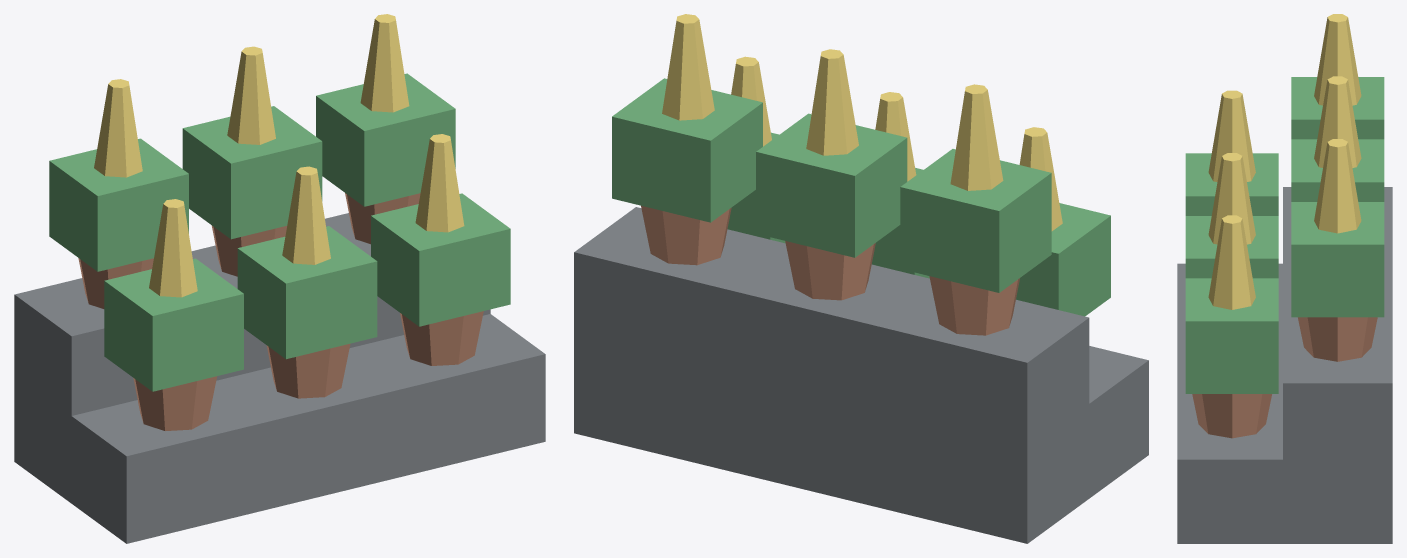
Rendered from flora_44_paphiopedilum_dalatense_chau_lan_hai_da_lat_va_dia_lan_kiem.glb.
3 renders of one model, left to right at view 1: azimuth 30°, elevation 25°; view 2: azimuth 150°, elevation 25°; view 3: azimuth 270°, elevation 25°, orthographic. The views are drawn at different scales.
Visible parts, largest first — view 1: flora_44_paphiopedilum_dalatense_chau_lan_hai_da_lat_va_dia_; view 2: flora_44_paphiopedilum_dalatense_chau_lan_hai_da_lat_va_dia_; view 3: flora_44_paphiopedilum_dalatense_chau_lan_hai_da_lat_va_dia_.
Boxes of the visible parts, x1=… form: flora_44_paphiopedilum_dalatense_chau_lan_hai_da_lat_va_dia_: x1=14, y1=14, x2=545, y2=543; flora_44_paphiopedilum_dalatense_chau_lan_hai_da_lat_va_dia_: x1=574, y1=14, x2=1148, y2=543; flora_44_paphiopedilum_dalatense_chau_lan_hai_da_lat_va_dia_: x1=1177, y1=14, x2=1392, y2=543.
Bounding box in the file's own units: 2.2 × 1.91 × 1.02.
